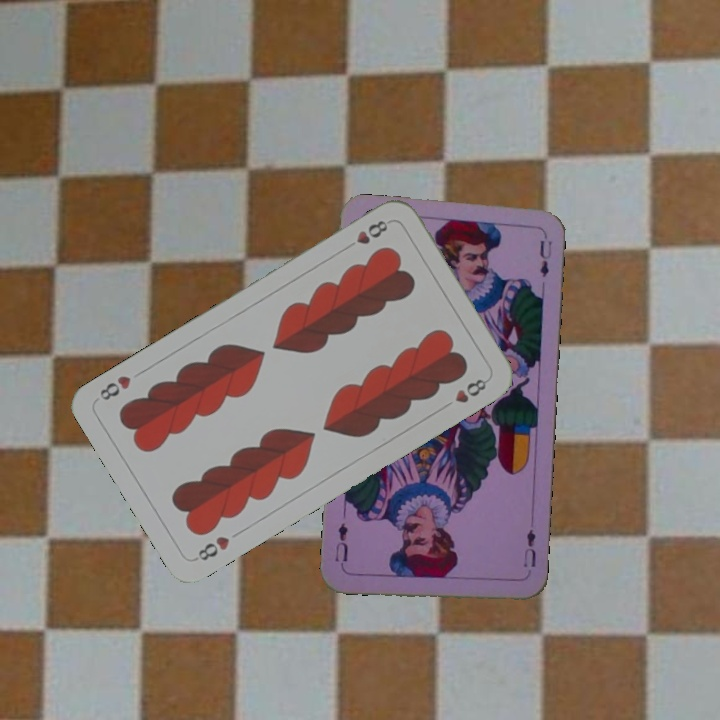EU: (519, 525, 539, 570)
H8: (190, 532, 233, 564), (352, 216, 390, 248)
